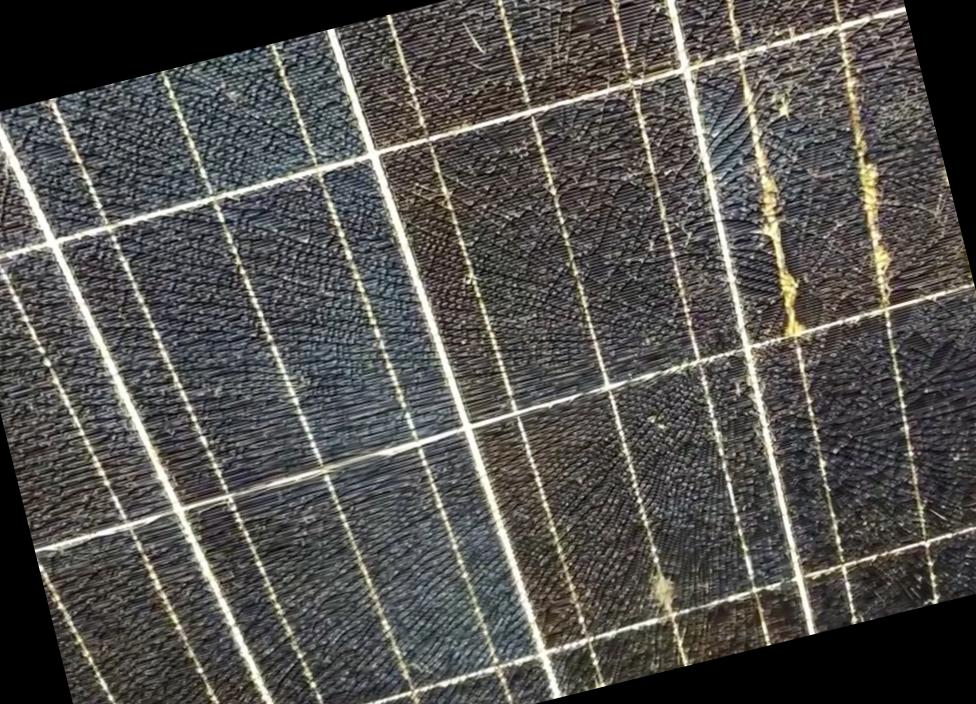Crack: (473, 0, 975, 522)
